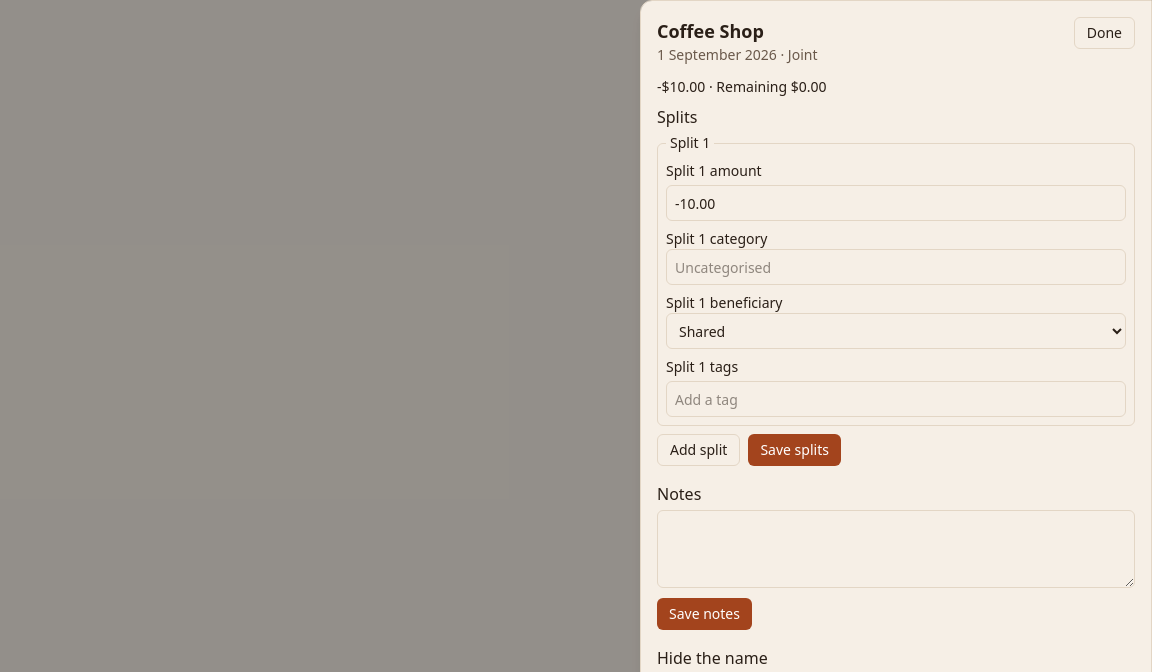
Scenario: TransactionSheet › keeps a bad amount from being sent
Replace the text in the field labelled "Split 1 amount" with "ten" at [896, 203], box top-left (666, 185), bottom-right (1126, 221)
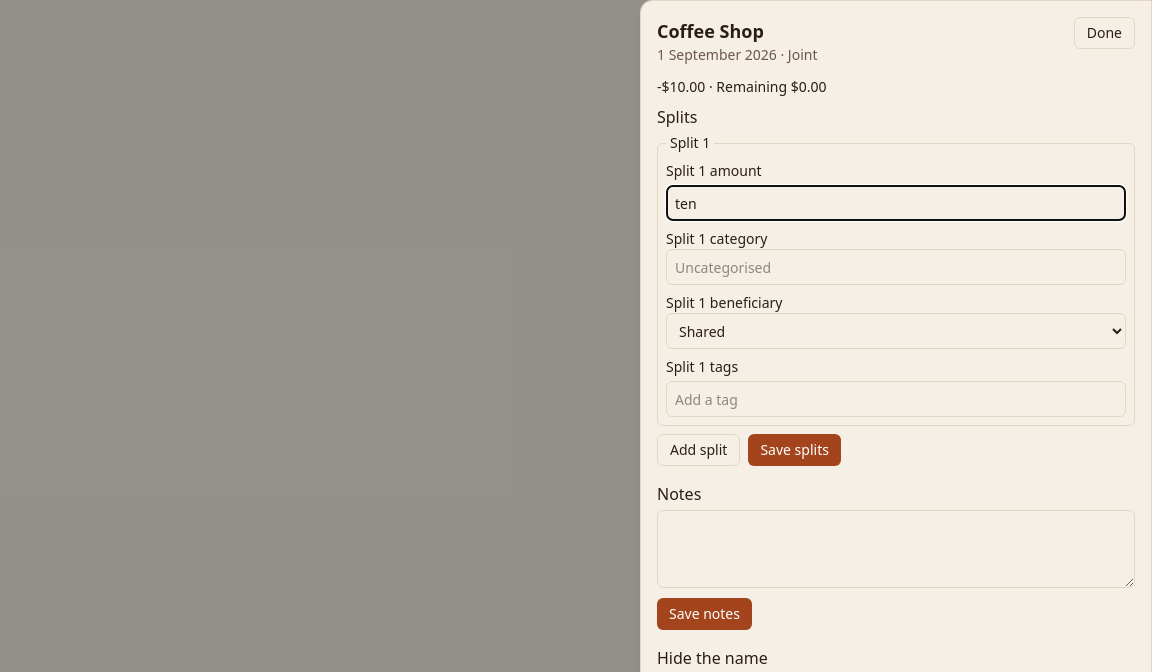
Click the button "Save splits" at [795, 450], box top-left (748, 434), bottom-right (841, 466)
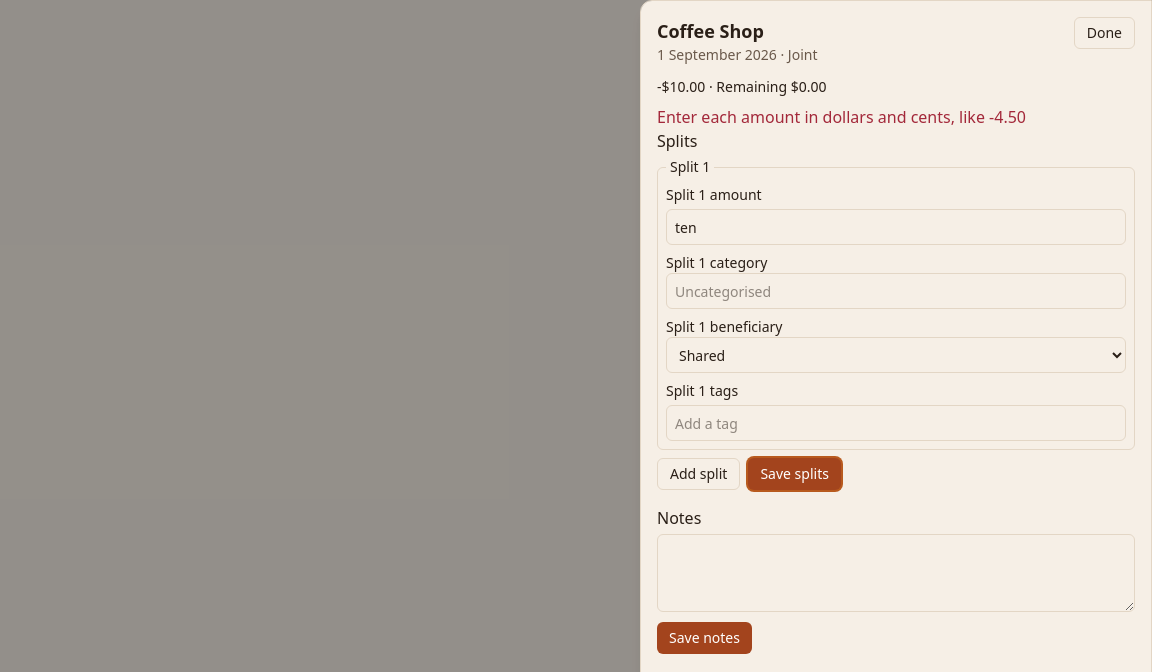
expect the message "Enter each amount in dollars and cents, like -4.50" is shown: met, box top-left (657, 106), bottom-right (1026, 128)
